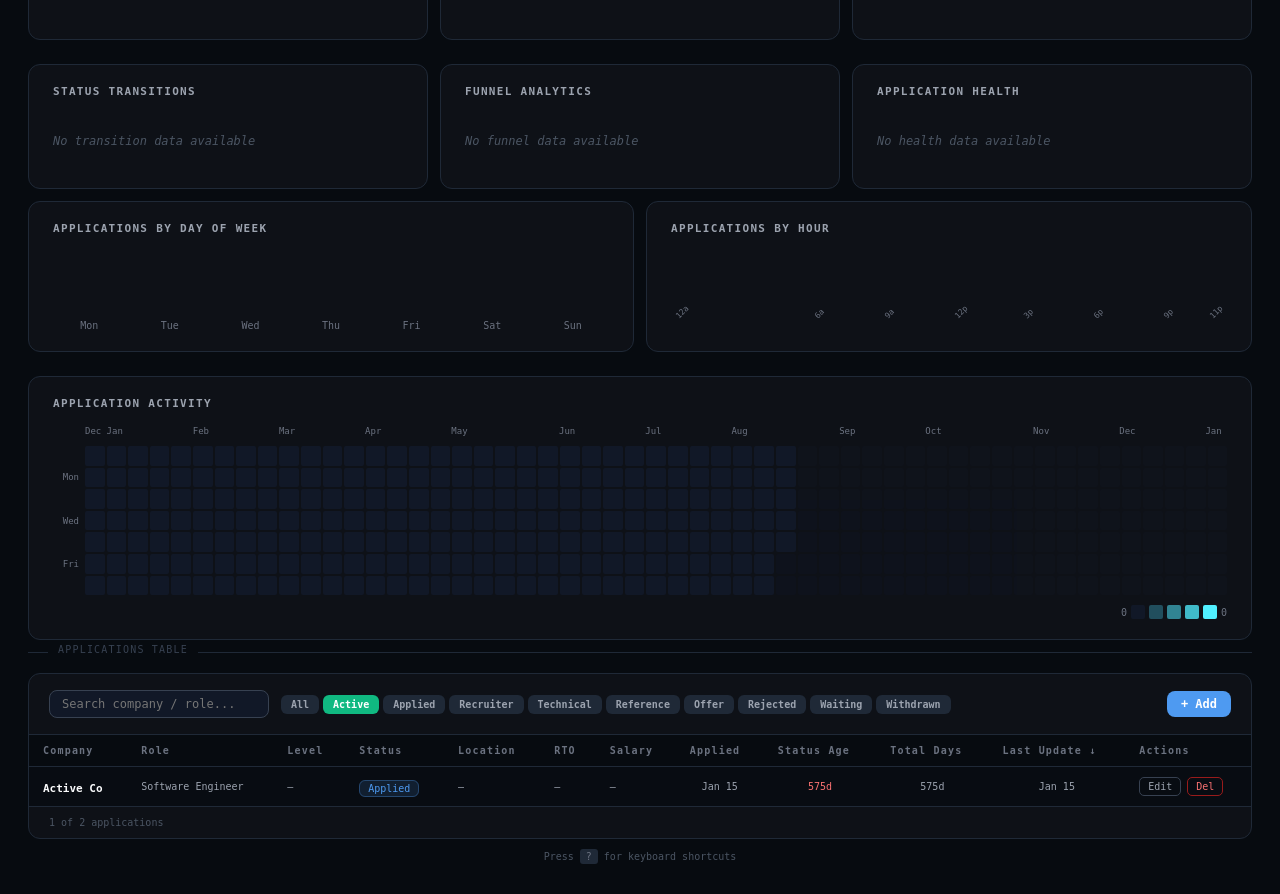
Scenario: JobTracker (Dashboard) › Active filter functionality › should show all applications when All filter is clicked
This screenshot has width=1280, height=894.
(page scrolled)
Check: the table is shown, box [29, 735, 1251, 806]
Check: the text "Rejected Co" is not shown
Click on All filter
Click the button "All".
click(300, 704)  # box [281, 695, 319, 714]
(page scrolled)
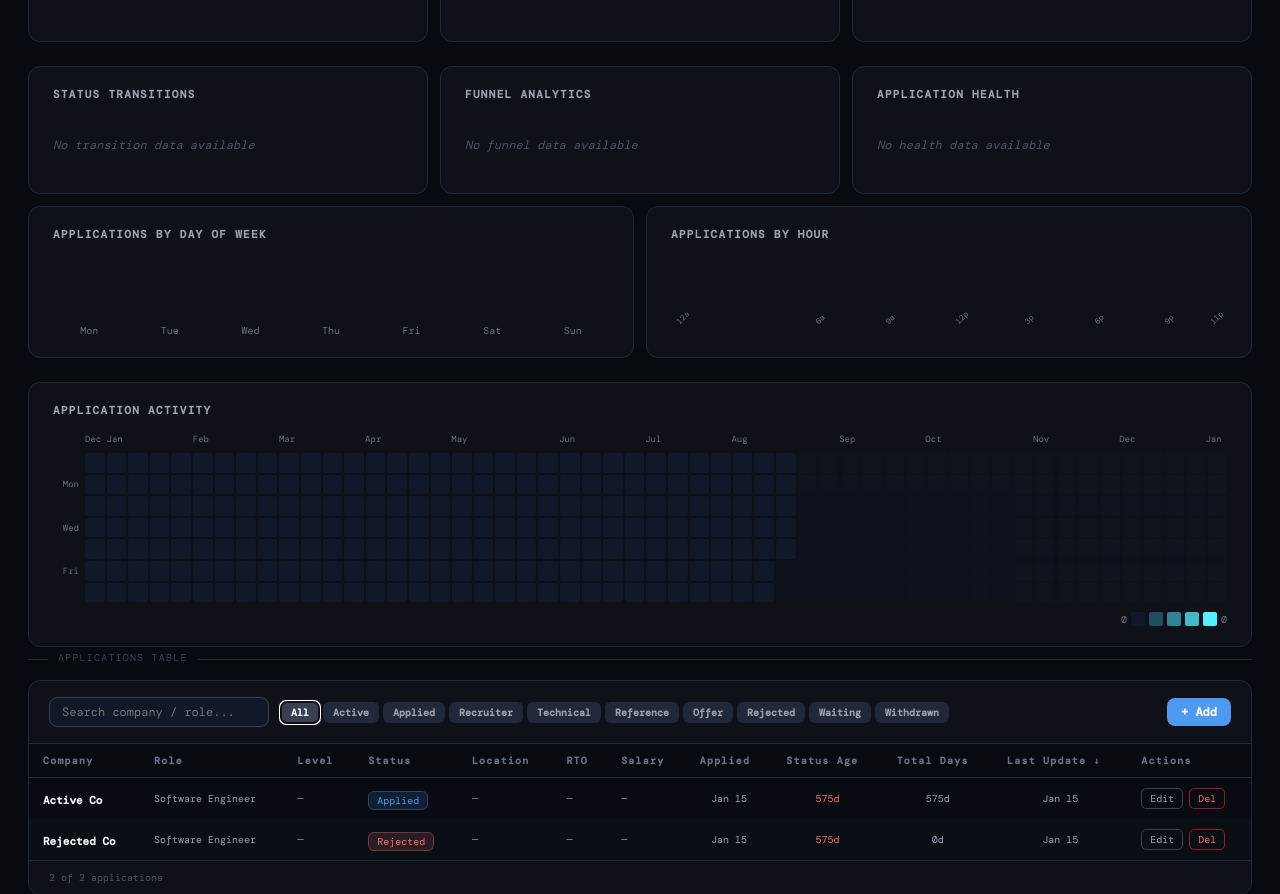
Check: the text "Active Co" is shown, box [43, 793, 102, 807]
Check: the text "Rejected Co" is shown, box [43, 834, 116, 848]
